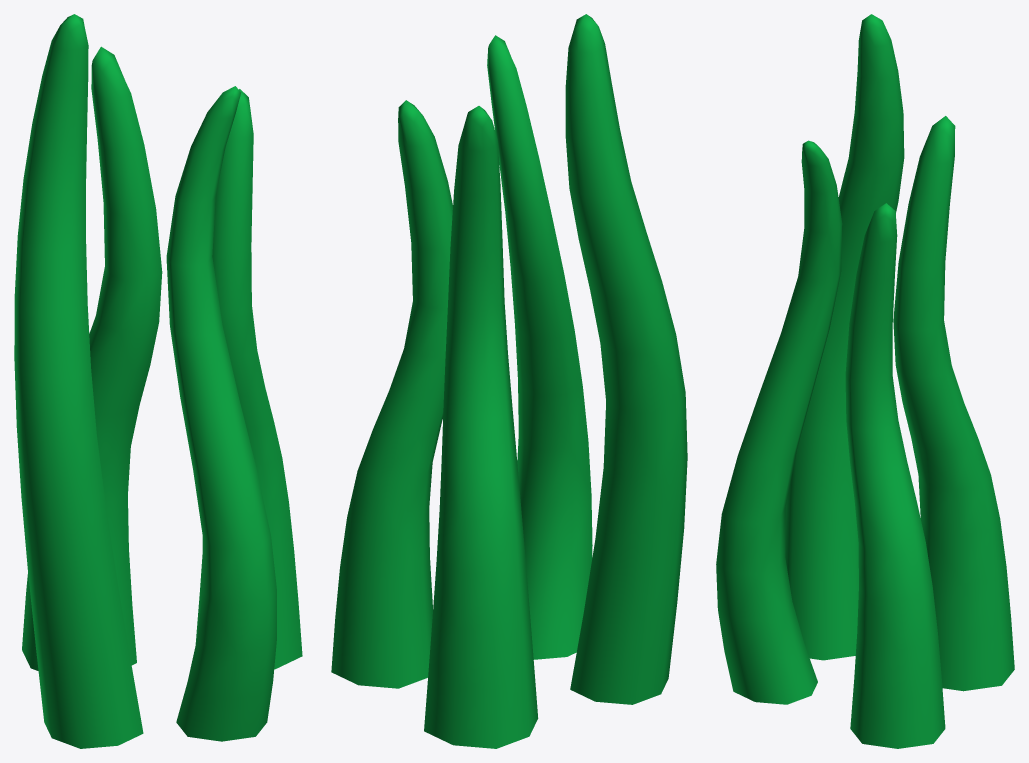
Rendered from Town_16_Grass_3.glb.
The picture shows the model from 3 angles, left to right: view 1: azimuth 30°, elevation 25°; view 2: azimuth 150°, elevation 25°; view 3: azimuth 270°, elevation 25°; orthographic projection. The views are drawn at different scales.
Visible parts, largest first — view 1: Town_16_Grass_3; view 2: Town_16_Grass_3; view 3: Town_16_Grass_3.
Boxes of the visible parts, x1,y1,x2,y2 form: Town_16_Grass_3: (14, 14, 302, 748); Town_16_Grass_3: (331, 14, 687, 748); Town_16_Grass_3: (716, 14, 1014, 748).
Size of the model in its own units: 0.3103 by 0.6691 by 0.2871.
1 material, 1 textured.
